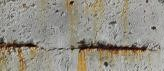Exposed reinforcement: (78, 42, 148, 53), (1, 42, 38, 49)
